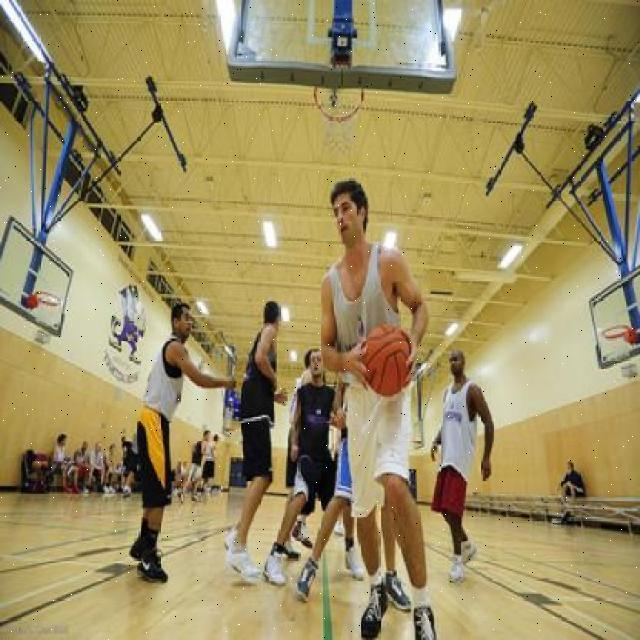ball: (359, 324, 412, 395)
hoop: (29, 288, 69, 309), (593, 325, 638, 340)
